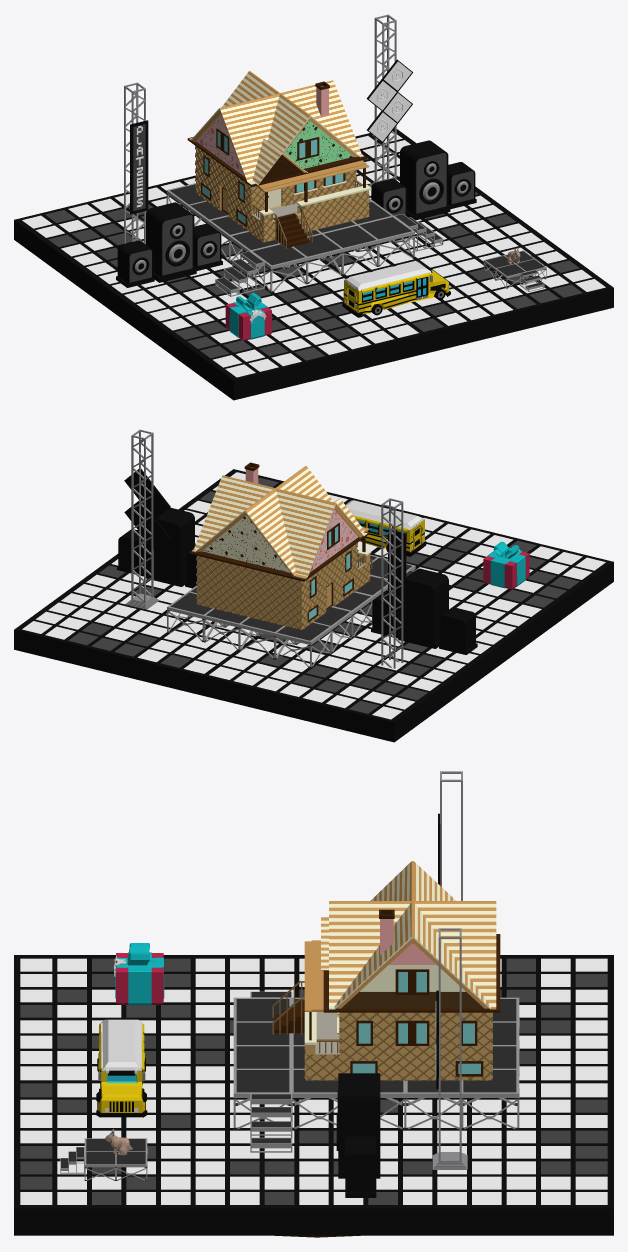
3 views of the same model, one above another, from view 1: azimuth 30°, elevation 25°; view 2: azimuth 150°, elevation 25°; view 3: azimuth 270°, elevation 25° (orthographic). The views are drawn at different scales.
Visible parts, largest first — view 1: Cube.008, Cube.1102, VEHICLES_SCHOOL_BUS, OBJRANDOM_GIANT_PRESENT; view 2: Cube.008, Cube.1102, VEHICLES_SCHOOL_BUS, OBJRANDOM_GIANT_PRESENT; view 3: Cube.008, Cube.1102, VEHICLES_SCHOOL_BUS, OBJRANDOM_GIANT_PRESENT.
Boxes of the visible parts, <box> form: Cube.008: <box>14,14,613,400</box>; Cube.1102: <box>187,71,371,248</box>; VEHICLES_SCHOOL_BUS: <box>342,261,450,317</box>; OBJRANDOM_GIANT_PRESENT: <box>225,292,271,340</box>; Cube.008: <box>14,429,613,742</box>; Cube.1102: <box>189,462,372,629</box>; VEHICLES_SCHOOL_BUS: <box>345,500,426,556</box>; OBJRANDOM_GIANT_PRESENT: <box>483,541,529,589</box>; Cube.008: <box>14,771,613,1235</box>; Cube.1102: <box>272,861,500,1080</box>; VEHICLES_SCHOOL_BUS: <box>96,1019,147,1117</box>; OBJRANDOM_GIANT_PRESENT: <box>113,943,164,1005</box>.
Size of the model in its own units: 4000 by 2038 by 4000.
42 materials, 2 textured.
